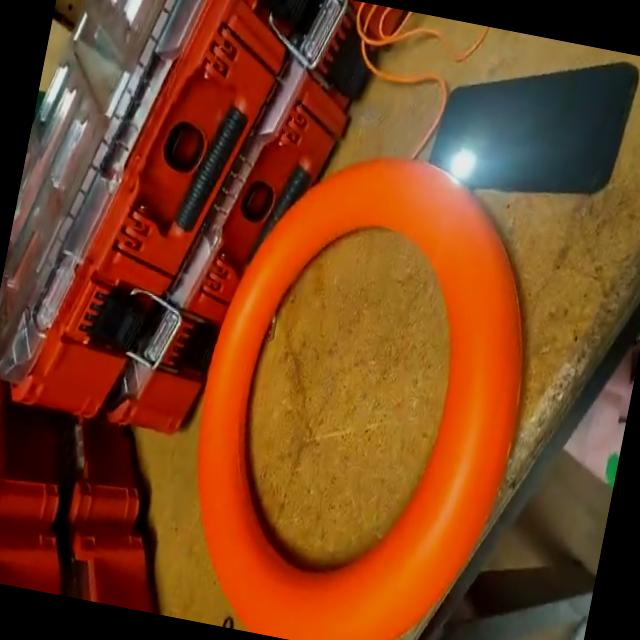note: (154, 130, 572, 640)
